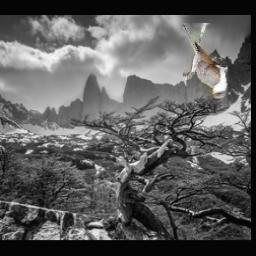Cuckoo: (183, 23, 228, 99)
